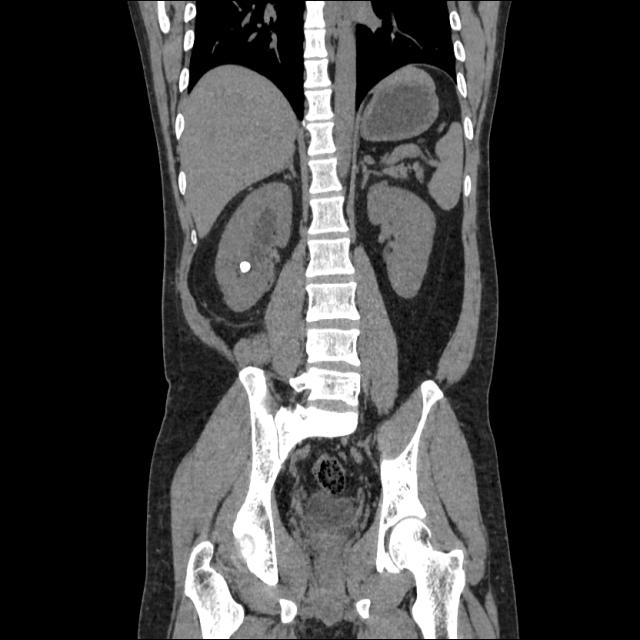kidney: (221, 185, 285, 309), (370, 188, 430, 295)
stone: (240, 260, 252, 274)
